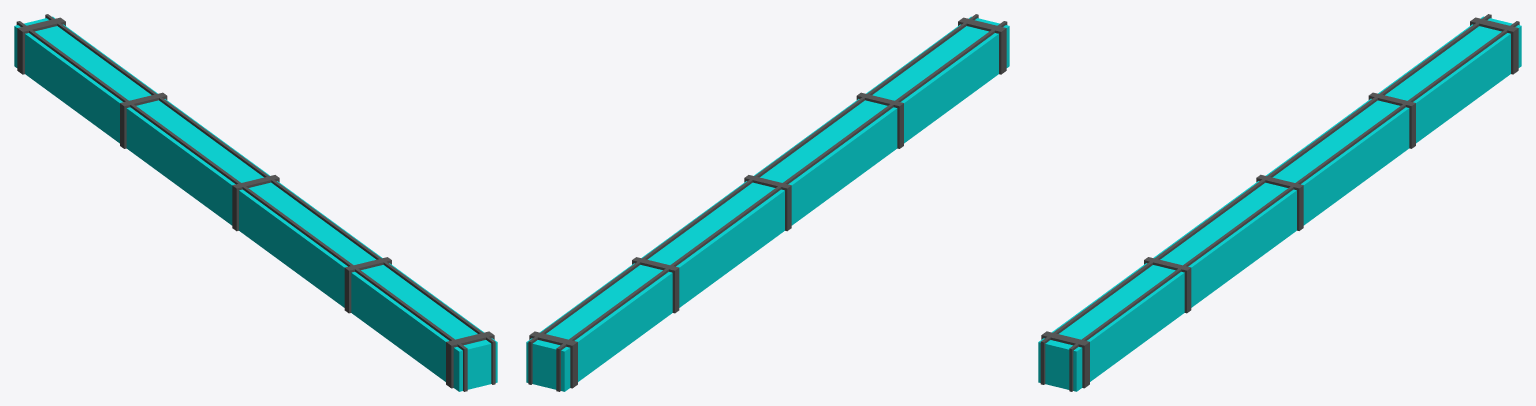
Rendered from SM_LED_strip.fbx.
3 views of the same model, side by side, from view 1: azimuth 30°, elevation 25°; view 2: azimuth 150°, elevation 25°; view 3: azimuth 330°, elevation 25° (orthographic).
Parts seen in each view (by area): view 1: light, frame; view 2: light, frame; view 3: light, frame.
Boxes of the visible parts, x1=… form: light: x1=14, y1=16, x2=497, y2=391; frame: x1=16, y1=14, x2=495, y2=391; light: x1=526, y1=16, x2=1009, y2=391; frame: x1=528, y1=14, x2=1007, y2=391; light: x1=1038, y1=16, x2=1521, y2=391; frame: x1=1040, y1=14, x2=1519, y2=391.
Bounding box in the file's own units: 5.6 × 5.3 × 101.
